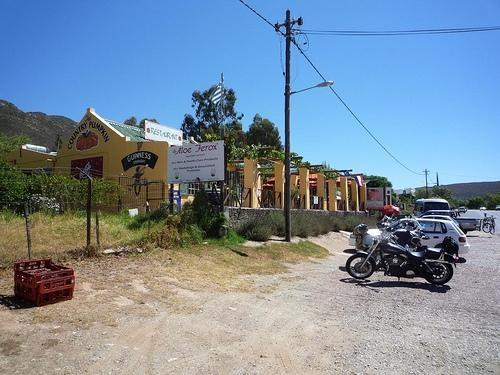bus: (412, 196, 450, 216)
car: (346, 217, 472, 254), (418, 214, 464, 228), (420, 209, 452, 217), (458, 207, 467, 213), (495, 204, 500, 212), (480, 207, 486, 211)
motorcycle: (344, 219, 462, 286), (351, 223, 432, 253)
